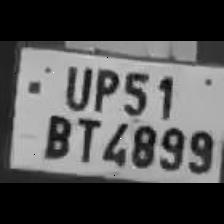1: (153, 68, 180, 118)
4: (100, 116, 128, 168)
5: (118, 66, 150, 114)
8: (128, 120, 155, 168)
9: (184, 124, 214, 176), (156, 123, 184, 171)
B: (40, 110, 72, 160)
P: (90, 63, 118, 111)
T: (71, 112, 99, 162)
U: (59, 60, 91, 110)
